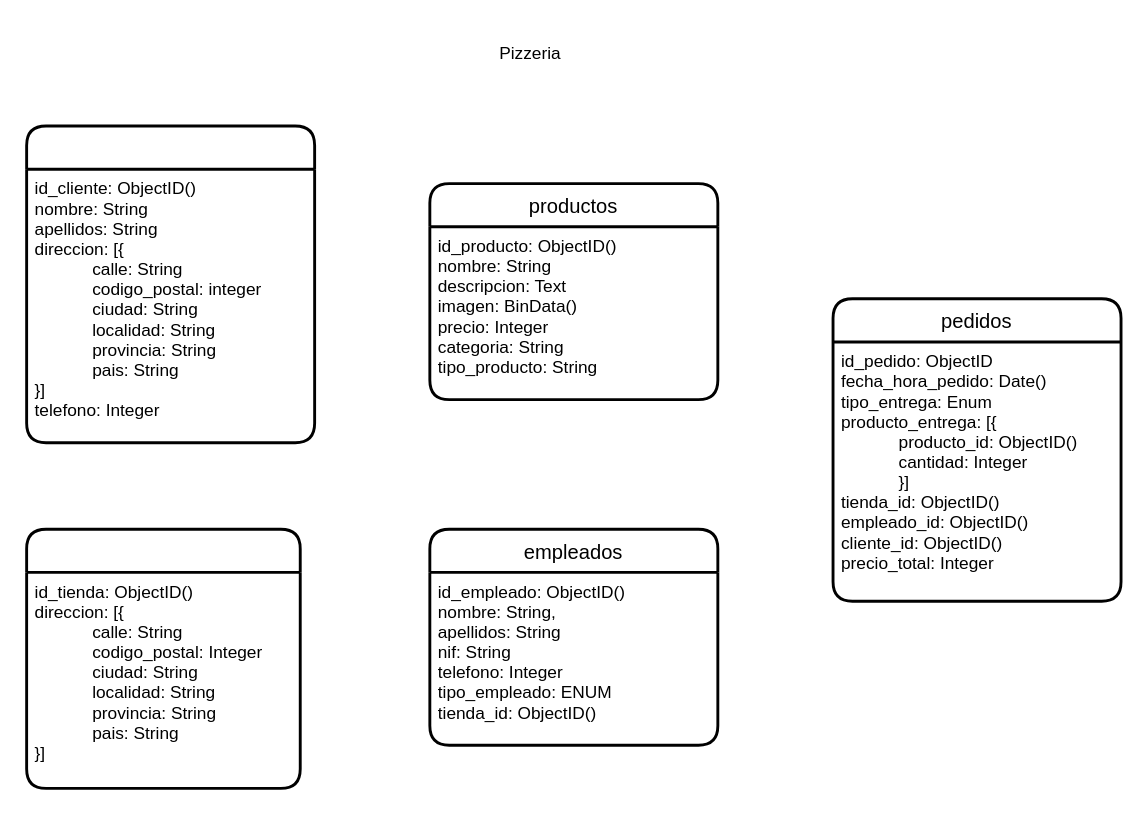
Some shapes in this 1146 by 814 pixel diagram are drawn without their labels. Here are the shapes that lost their labels. From the top down, the box of each, then its label:
(24, 124, 315, 444): clientes
(24, 527, 301, 789): tiendas
